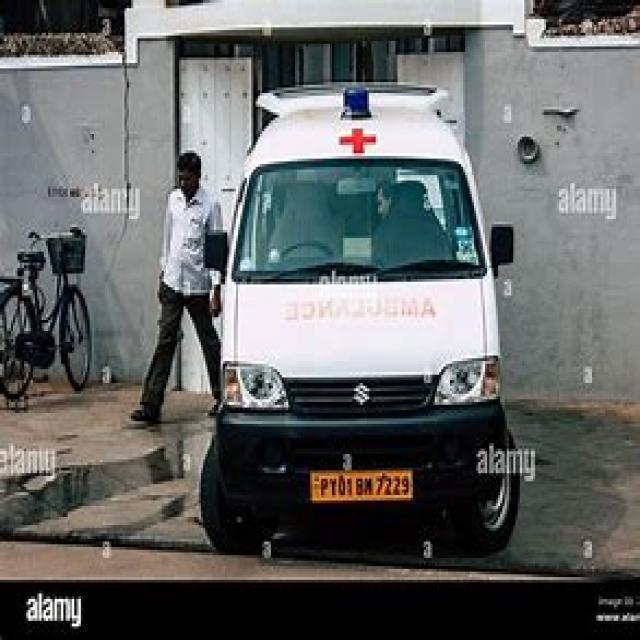Ambulance: (198, 79, 524, 560), (1, 379, 638, 578), (125, 150, 229, 429)
